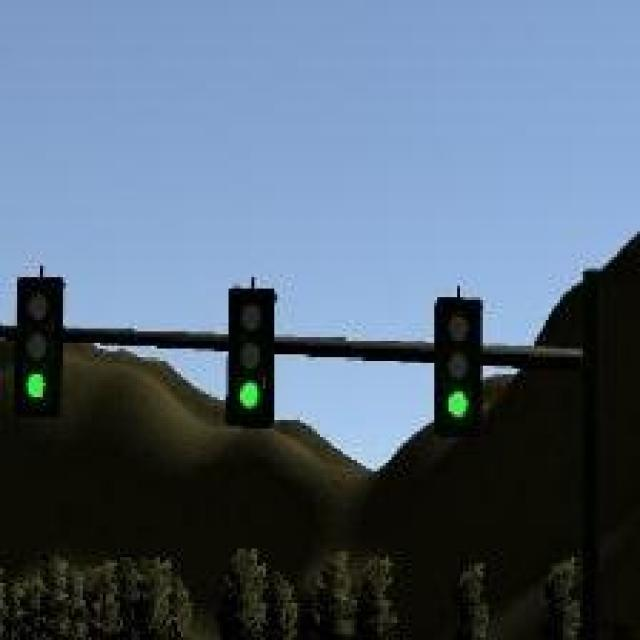green_light: (431, 300, 483, 437), (230, 289, 274, 432), (20, 277, 63, 414)
